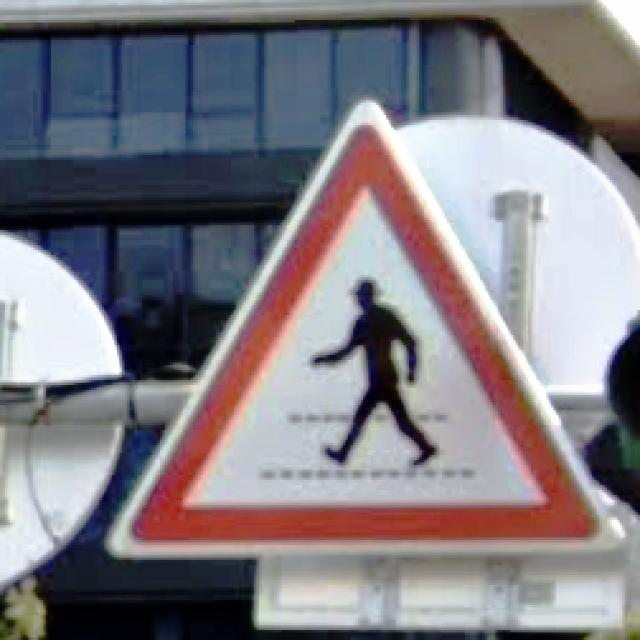pedestriancross: (127, 126, 597, 544)
